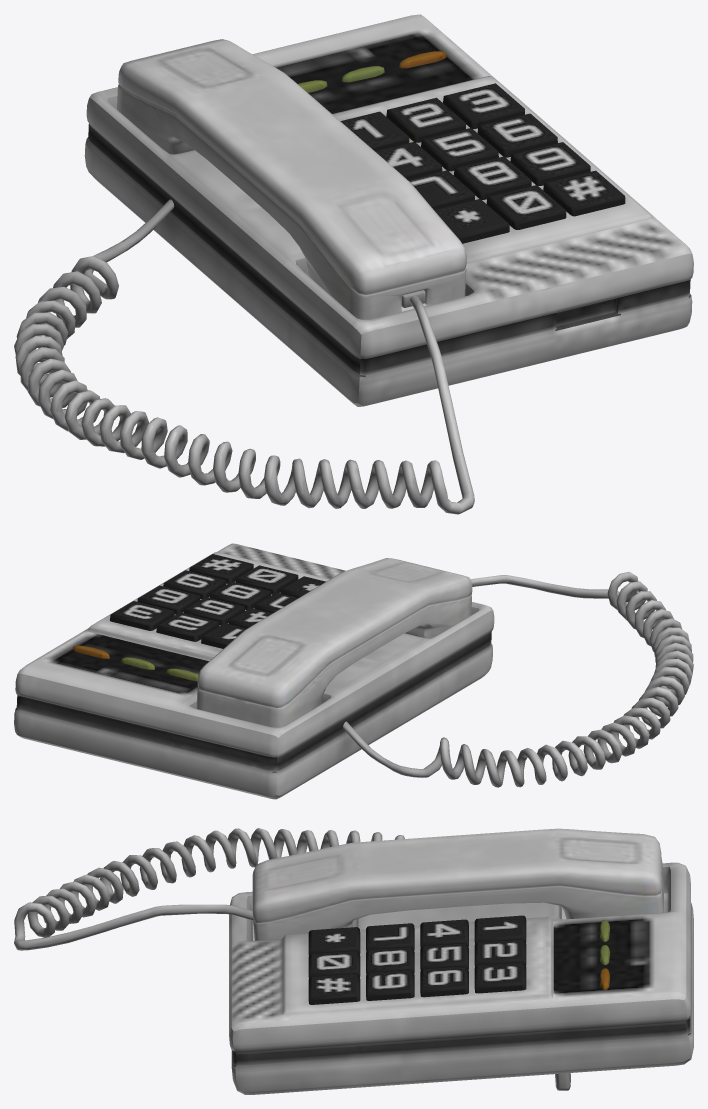
File: telephone.glb
The picture shows the model from 3 angles, top to bottom: view 1: azimuth 30°, elevation 25°; view 2: azimuth 150°, elevation 25°; view 3: azimuth 270°, elevation 25°; orthographic projection. The views are drawn at different scales.
Visible parts, largest first — view 1: PhoneBody, receiver, Cable, Numbers, Lights; view 2: PhoneBody, receiver, Cable, Numbers, Lights; view 3: PhoneBody, receiver, Numbers, Cable, Lights.
Part boxes in pixels (box(x1,y1,x2,y2)): PhoneBody: box(84, 14, 693, 406); receiver: box(117, 39, 466, 319); Cable: box(14, 199, 474, 514); Numbers: box(340, 83, 625, 243); Lights: box(298, 51, 446, 92); PhoneBody: box(14, 543, 494, 799); receiver: box(196, 558, 472, 727); Cable: box(343, 572, 693, 787); Numbers: box(110, 554, 325, 648); Lights: box(72, 645, 198, 681); PhoneBody: box(229, 862, 693, 1094); receiver: box(252, 828, 663, 940); Numbers: box(308, 915, 526, 1004); Cable: box(14, 828, 404, 950); Lights: box(600, 920, 610, 989).
Bounding box in the file's own units: 2.89 × 0.8025 × 3.5.
Materials: 1 (1 with a texture image).
